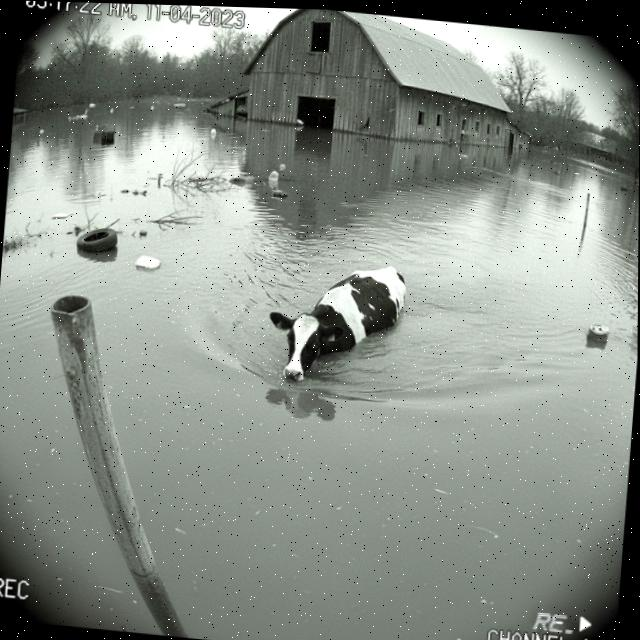cow: (254, 240, 423, 406)
